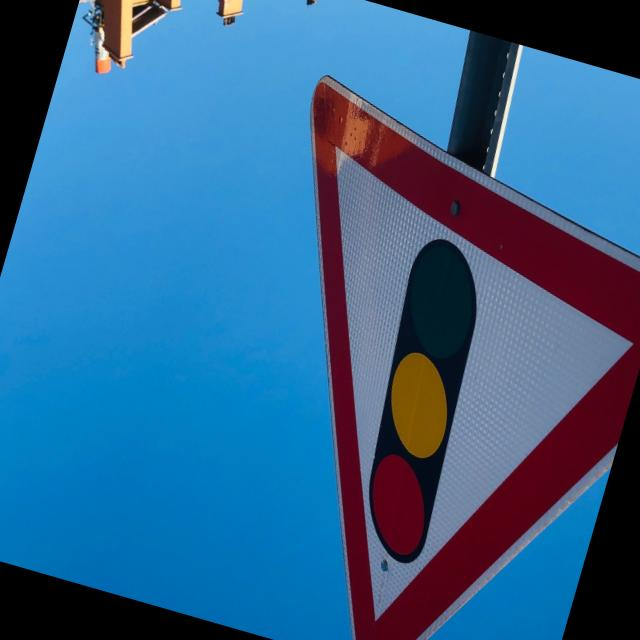light_traffic: (158, 83, 640, 640)
